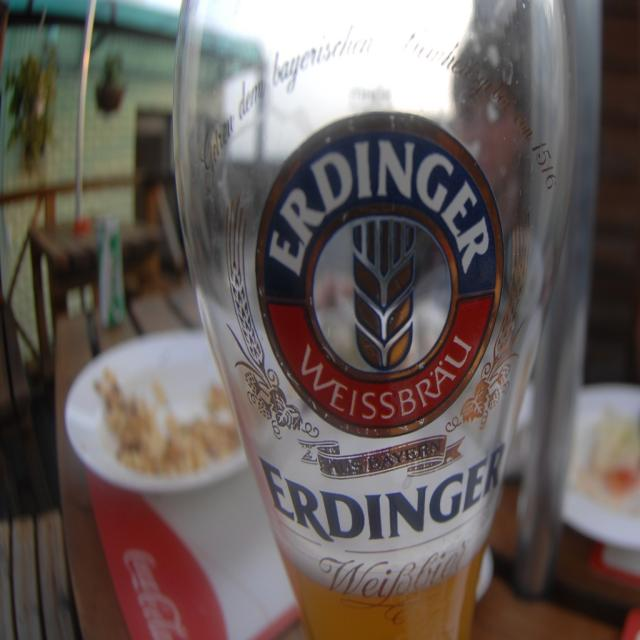erdinger: (199, 17, 565, 561)
